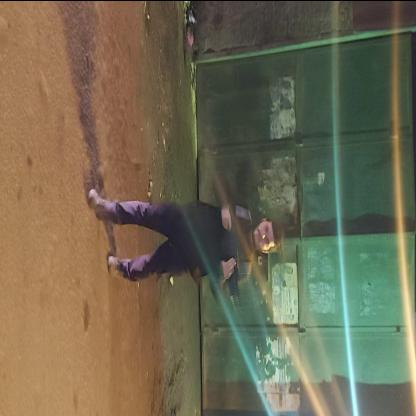long weapon: (221, 185, 245, 314)
